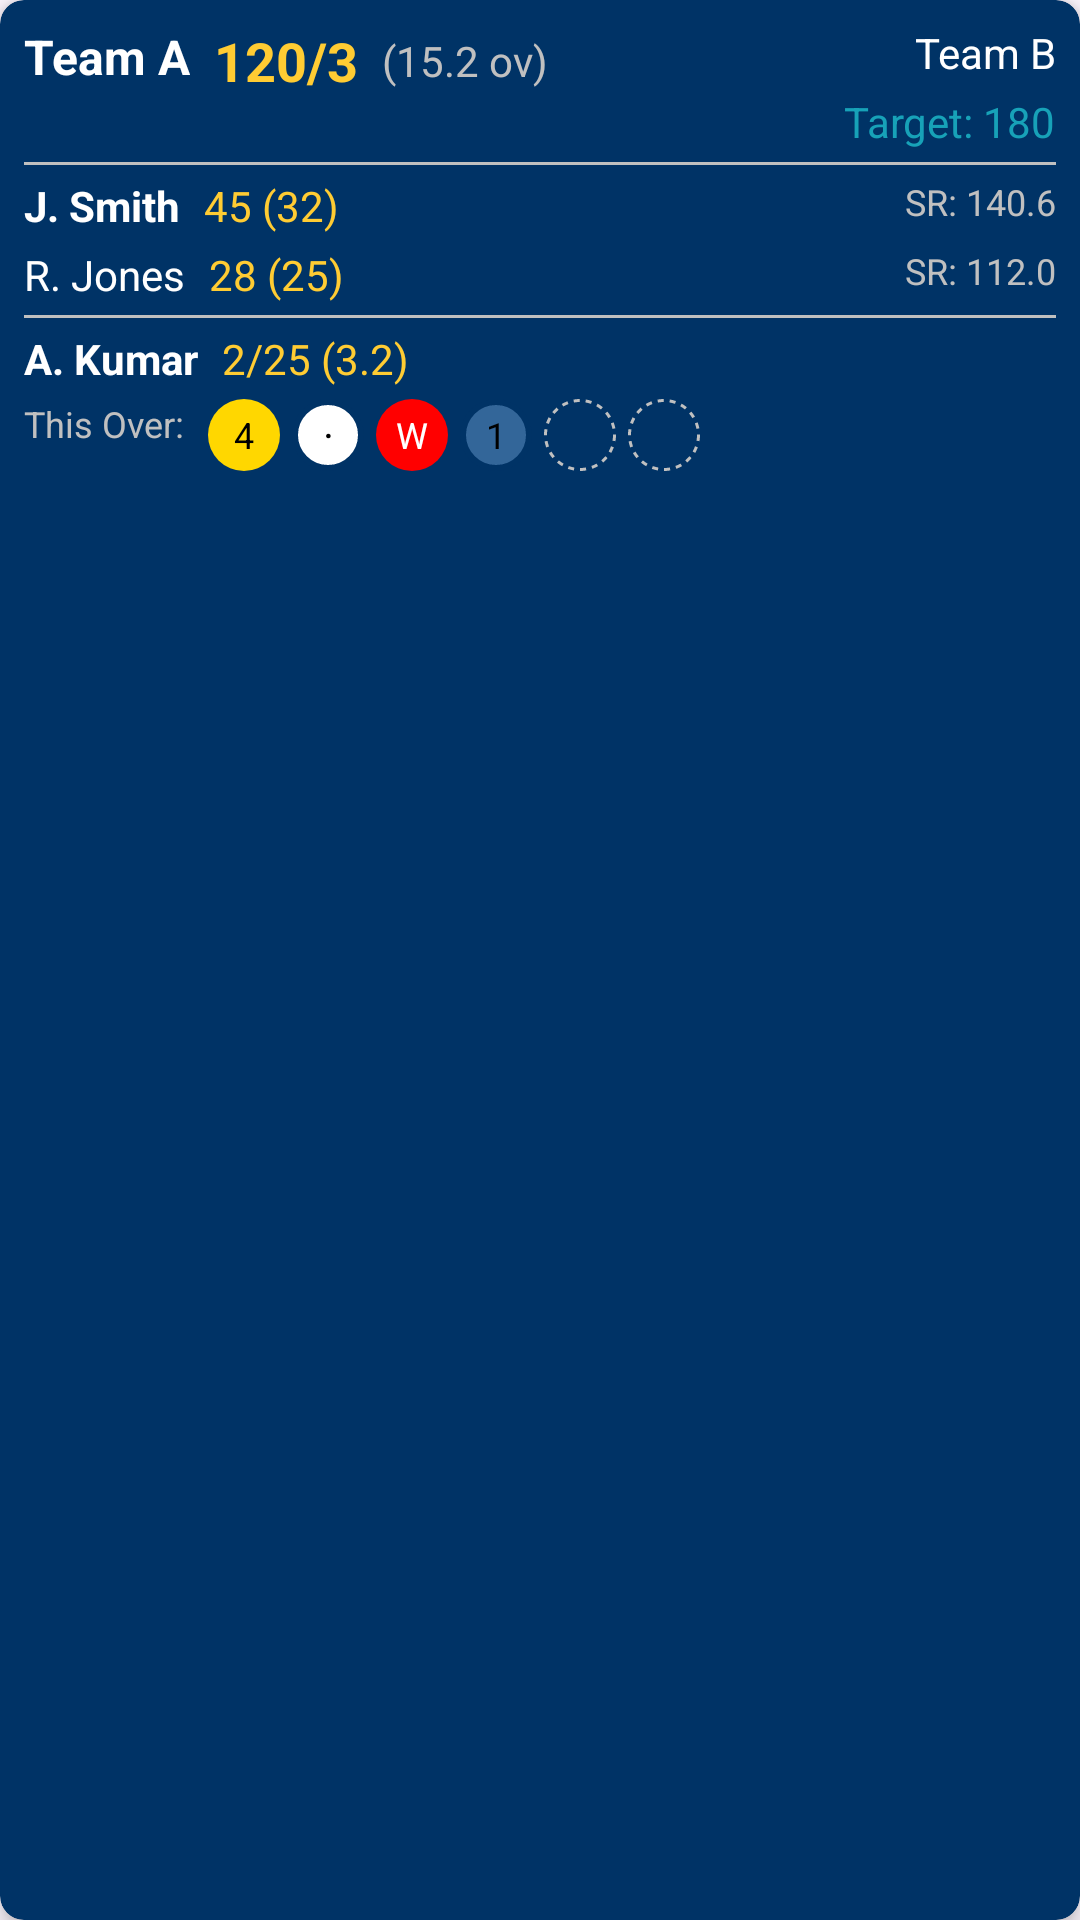

Named icons in this screenshot (1080px x 1920px) and their bounding boxes, (x1, y1, x2, y2):
ball empty: (544, 399, 616, 471), (628, 399, 700, 471)
